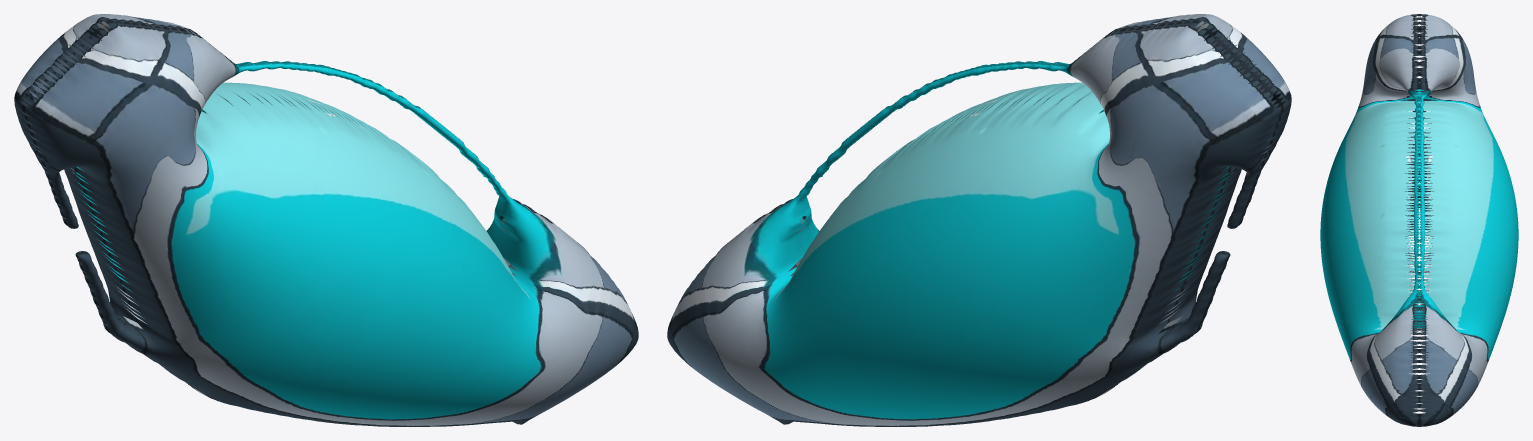
File: oval_portal.glb
The picture shows the model from 3 angles, left to right: view 1: azimuth 30°, elevation 25°; view 2: azimuth 150°, elevation 25°; view 3: azimuth 270°, elevation 25°; orthographic projection. The views are drawn at different scales.
Parts seen in each view (by area): view 1: oval_portal; view 2: oval_portal; view 3: oval_portal.
Part boxes in pixels (left/top/right/bottom): oval_portal: left=14, top=14, right=638, bottom=426; oval_portal: left=667, top=14, right=1291, bottom=426; oval_portal: left=1320, top=14, right=1518, bottom=426.
Size of the model in its own units: 0.9889 by 0.7488 by 0.4709.
Materials: 1 (1 with a texture image).
